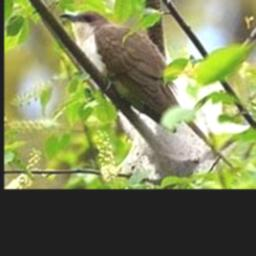Cuckoo: (60, 10, 232, 166)
